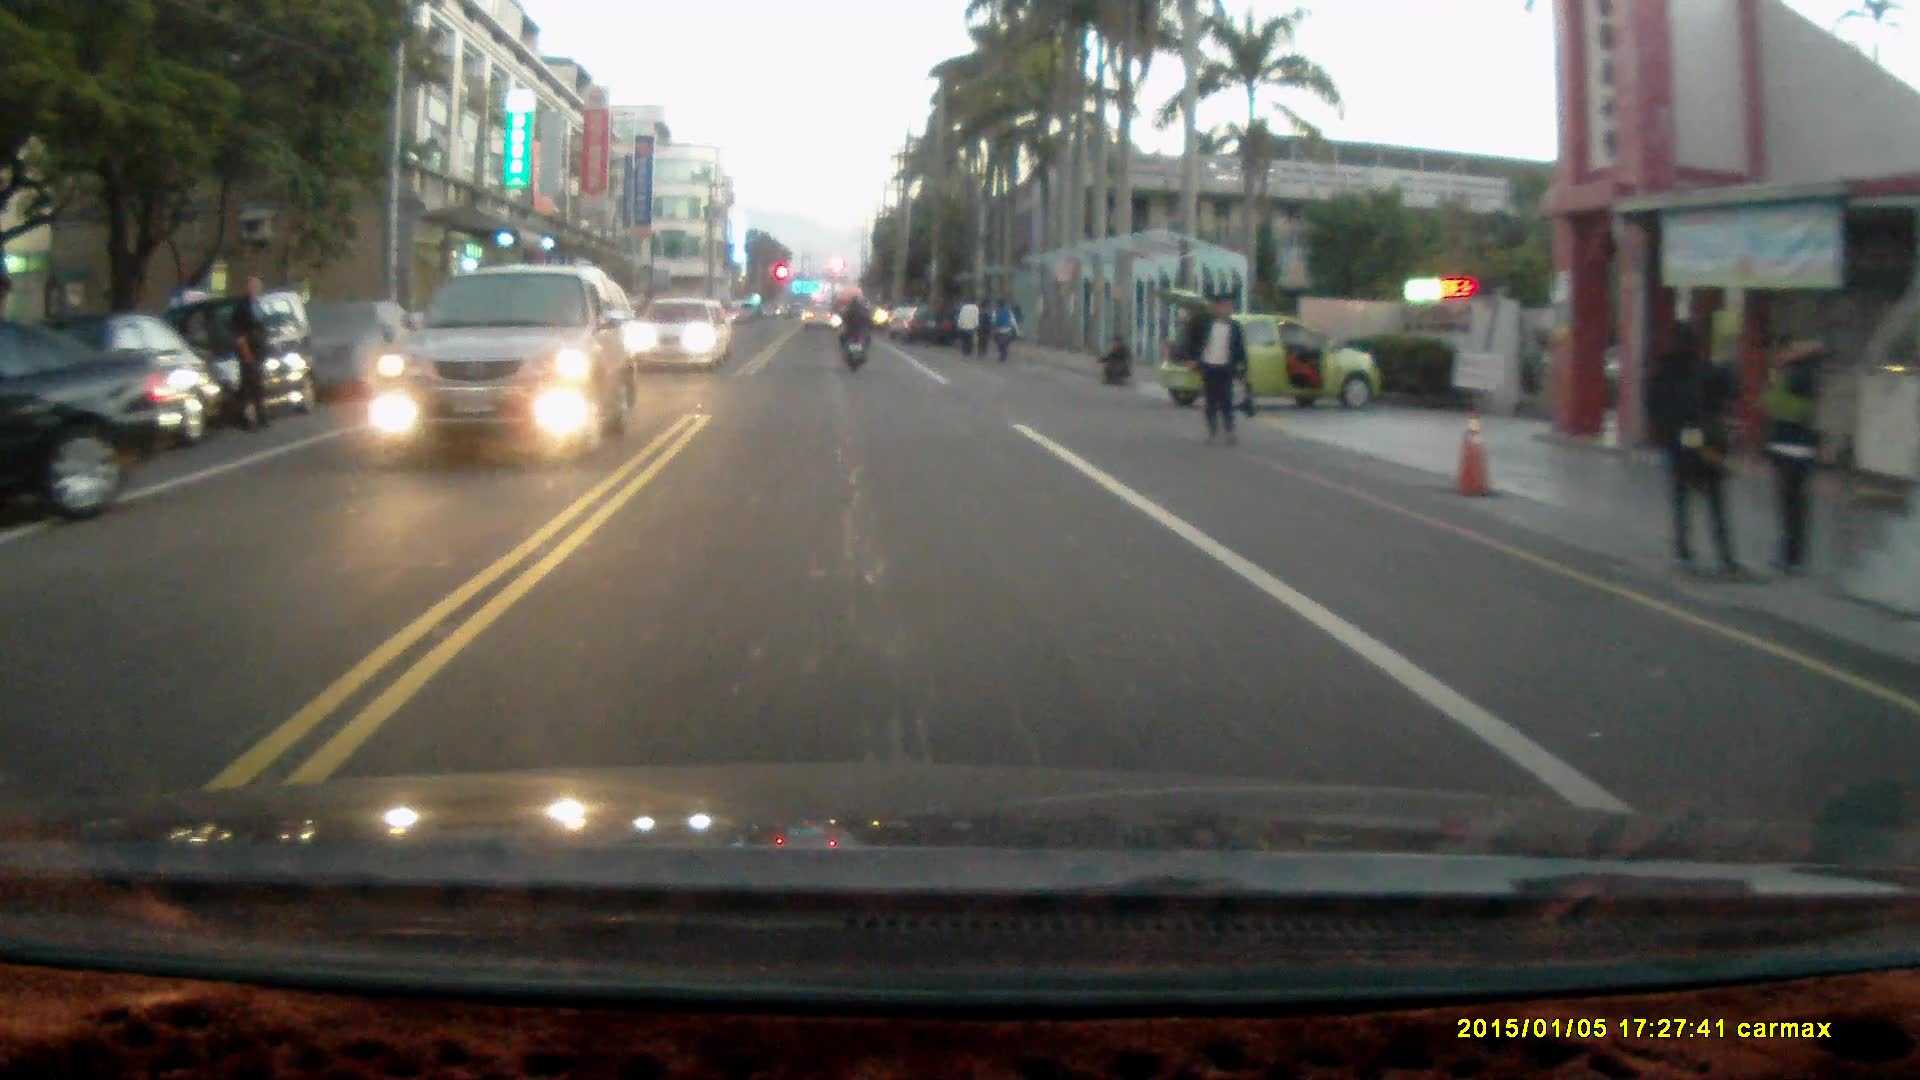pedestrian: (1640, 319, 1755, 591), (1759, 327, 1819, 582), (1183, 288, 1249, 449), (1097, 330, 1130, 386), (989, 293, 1015, 363), (958, 294, 981, 364), (975, 298, 995, 362)
rider: (834, 294, 873, 374)
vehicle: (380, 266, 638, 461), (0, 312, 184, 537), (1155, 289, 1387, 414), (168, 293, 325, 426), (633, 300, 736, 376)
